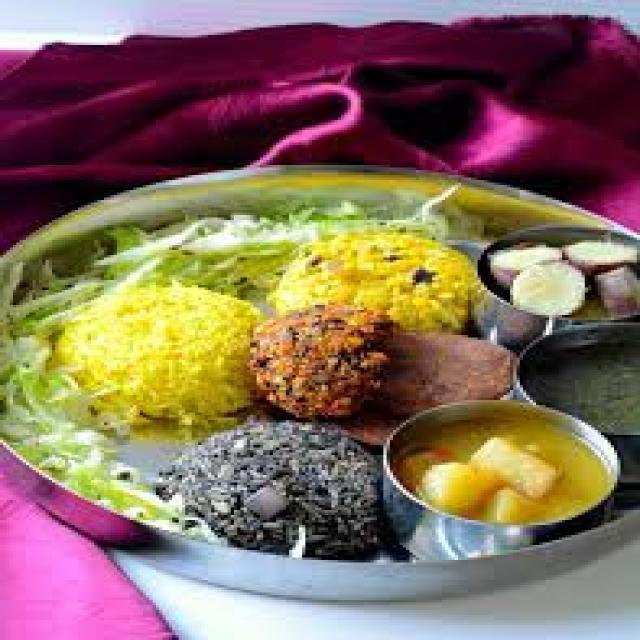dal: (30, 280, 253, 433)
